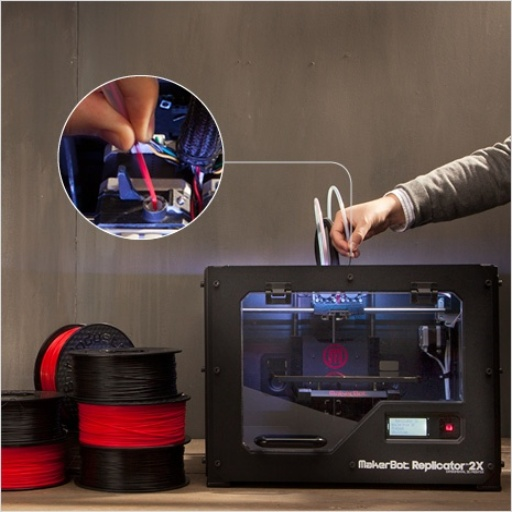hand: (62, 77, 159, 153), (333, 180, 419, 247)
